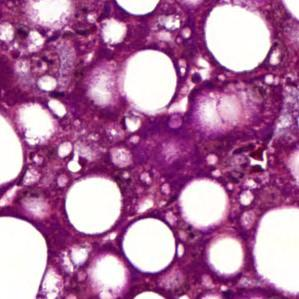steatosis: (121, 48, 180, 115), (122, 213, 179, 276), (62, 174, 123, 232), (208, 237, 246, 275)
